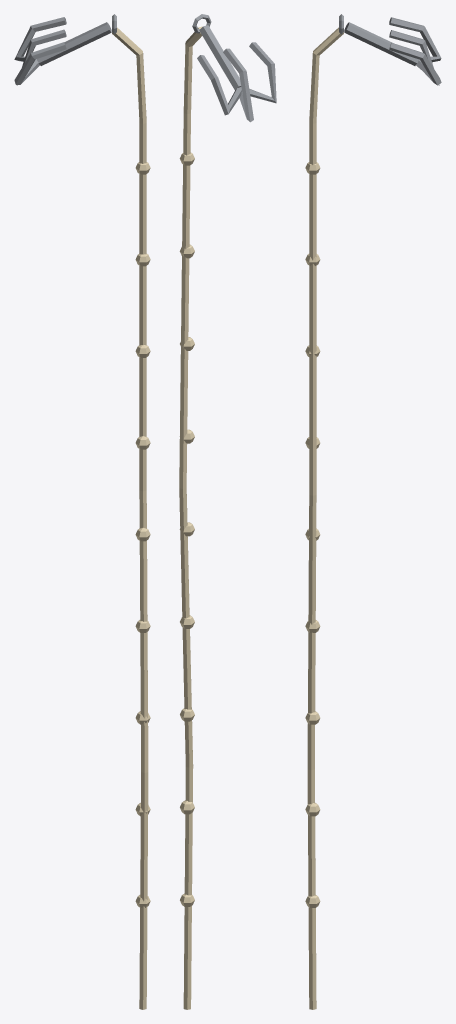
The model's file is CR_Garfio.fbx.
The picture shows the model from 3 angles, left to right: view 1: azimuth 90°, elevation 25°; view 2: azimuth 210°, elevation 25°; view 3: azimuth 270°, elevation 25°; orthographic projection.
Visible parts, largest first — view 1: CR_Garfio; view 2: CR_Garfio; view 3: CR_Garfio.
Boxes of the visible parts, box(x1,y1,x2,y2) form: CR_Garfio: box(14, 14, 150, 1009); CR_Garfio: box(179, 14, 276, 1009); CR_Garfio: box(305, 14, 441, 1009).
Size of the model in its own units: 0.4293 by 6.51 by 0.809.
